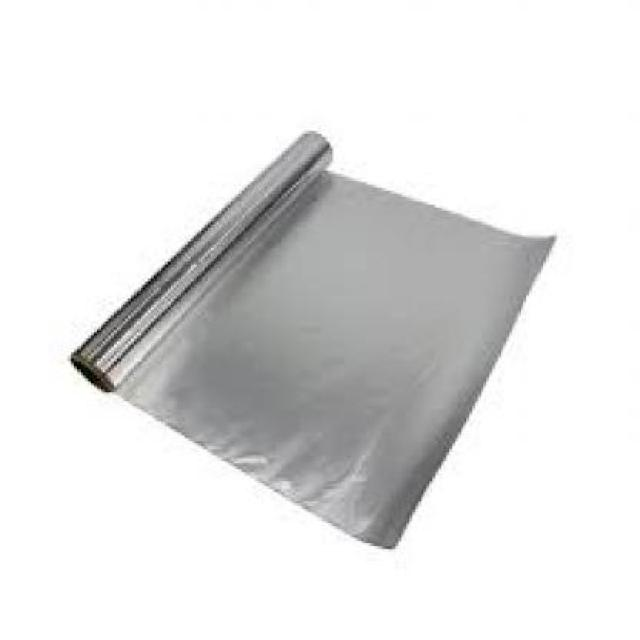METAL: (71, 125, 558, 549)
